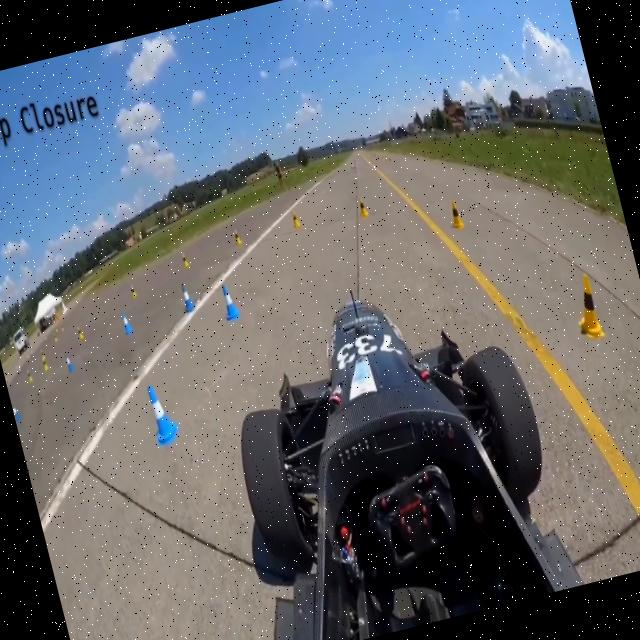blue_cone: (220, 283, 240, 320), (179, 281, 196, 312), (119, 309, 133, 335)
yellow_cone: (568, 270, 606, 342), (445, 198, 466, 230), (355, 195, 369, 218), (289, 208, 302, 230)
